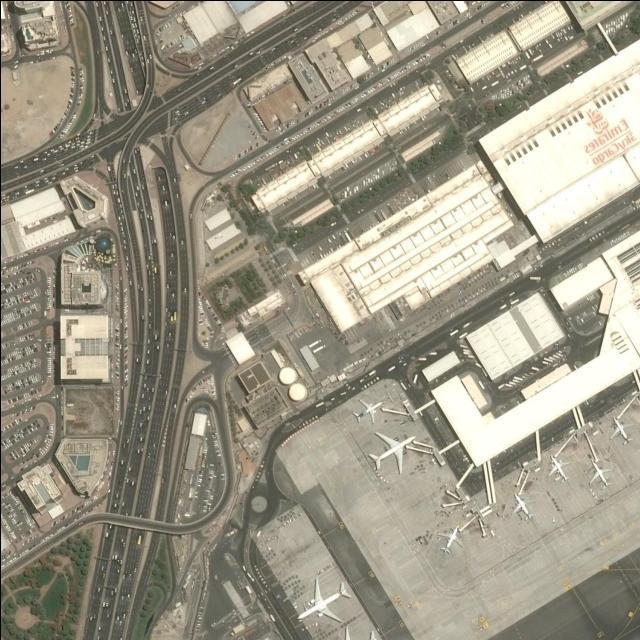Aircraft: (296, 581, 350, 626), (364, 433, 414, 477), (436, 526, 463, 556), (352, 398, 382, 425), (588, 462, 612, 492), (510, 494, 534, 522), (545, 456, 569, 484), (607, 418, 631, 446)
